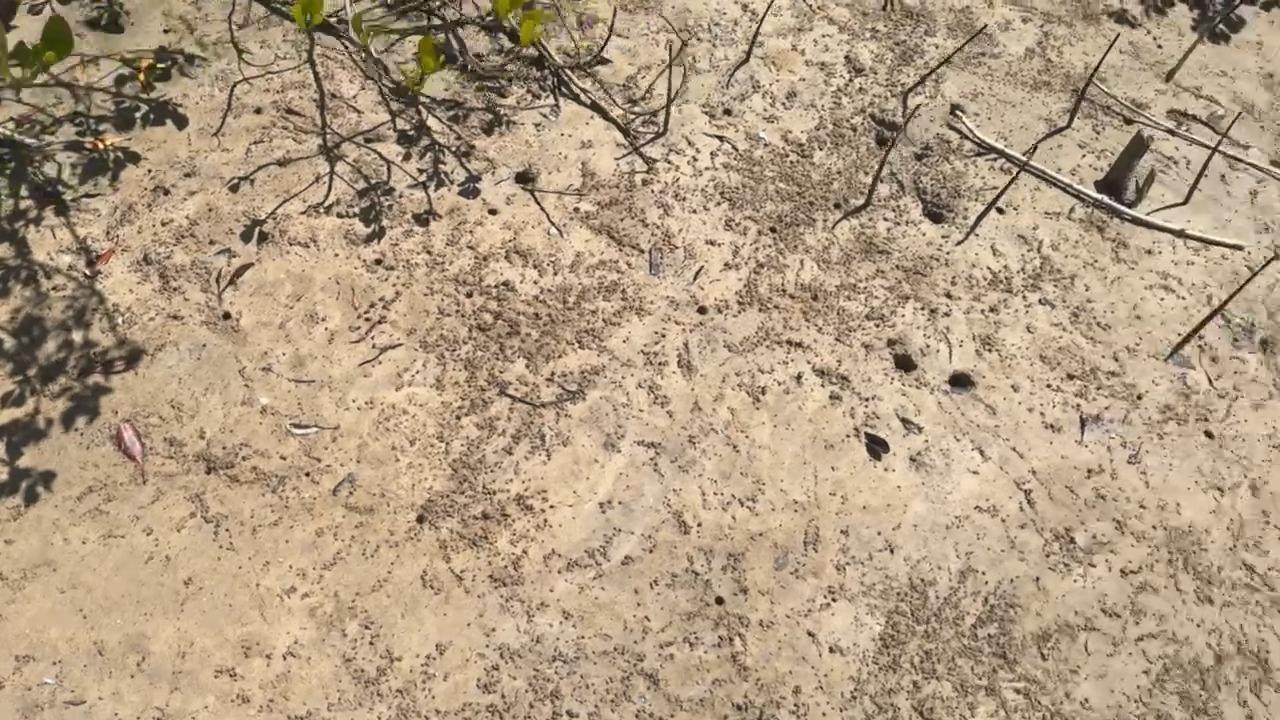Tree: (1173, 256, 1276, 353), (904, 23, 989, 97), (1182, 111, 1243, 205), (975, 143, 1038, 227), (1067, 33, 1121, 127), (877, 103, 920, 177), (1164, 24, 1205, 83), (745, 0, 776, 61), (664, 41, 675, 132)
